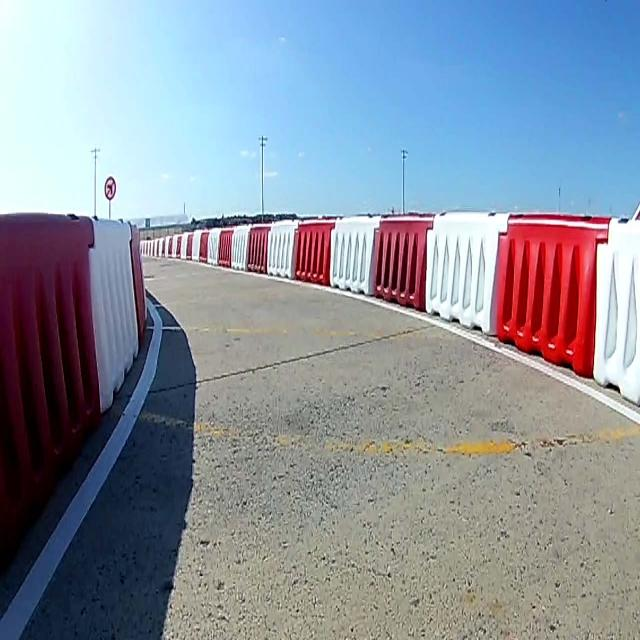soladonulmez: (104, 175, 115, 201)
